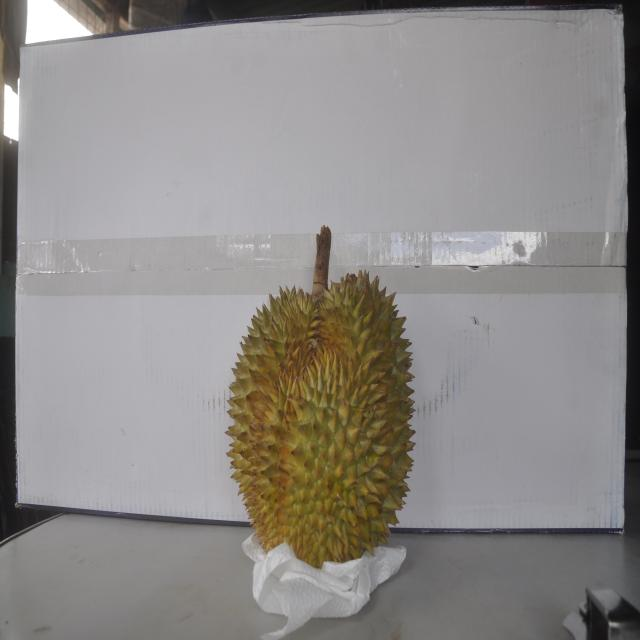mature: (226, 242, 418, 568)
